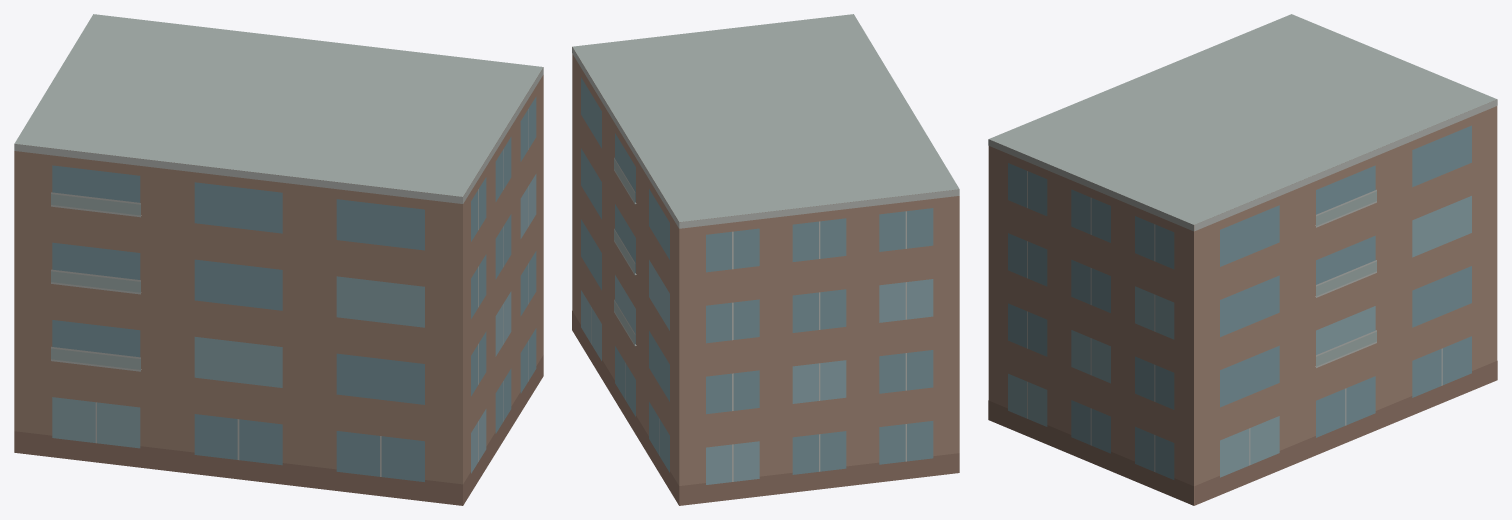
The model's file is survey-upis-32661257.glb.
3 views of the same model, side by side, from view 1: azimuth 30°, elevation 25°; view 2: azimuth 150°, elevation 25°; view 3: azimuth 270°, elevation 25° (orthographic). The views are drawn at different scales.
Visible parts, largest first — view 1: survey-upis-32661257.tmp; view 2: survey-upis-32661257.tmp; view 3: survey-upis-32661257.tmp.
Part boxes in pixels (x1,y1,x2,y2): survey-upis-32661257.tmp: (14, 14, 543, 505); survey-upis-32661257.tmp: (572, 14, 959, 505); survey-upis-32661257.tmp: (988, 14, 1497, 505).
Size of the model in its own units: 16.92 by 10.5 by 17.25.
